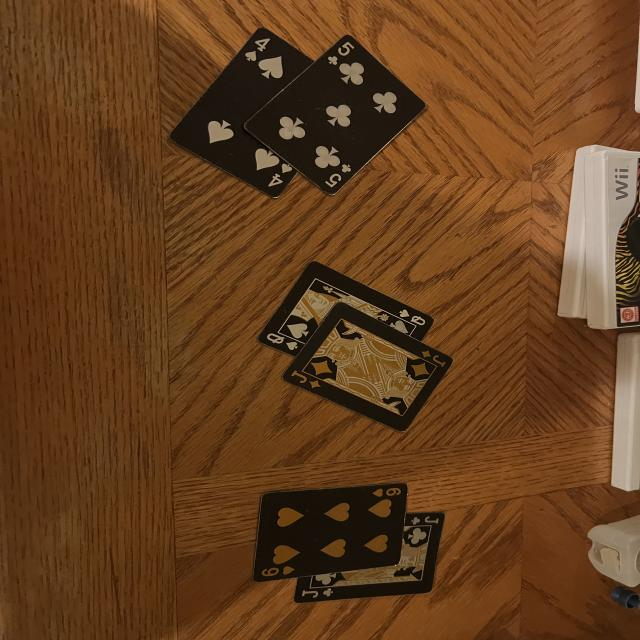4S: (239, 36, 272, 64), (268, 160, 295, 189)
5C: (324, 40, 356, 66), (323, 163, 353, 190)
6H: (258, 562, 298, 578), (369, 486, 403, 499)
JC: (299, 588, 338, 598), (409, 514, 440, 525)
JD: (288, 370, 324, 388), (418, 348, 450, 368)
QS: (266, 332, 300, 351), (396, 307, 428, 327)
